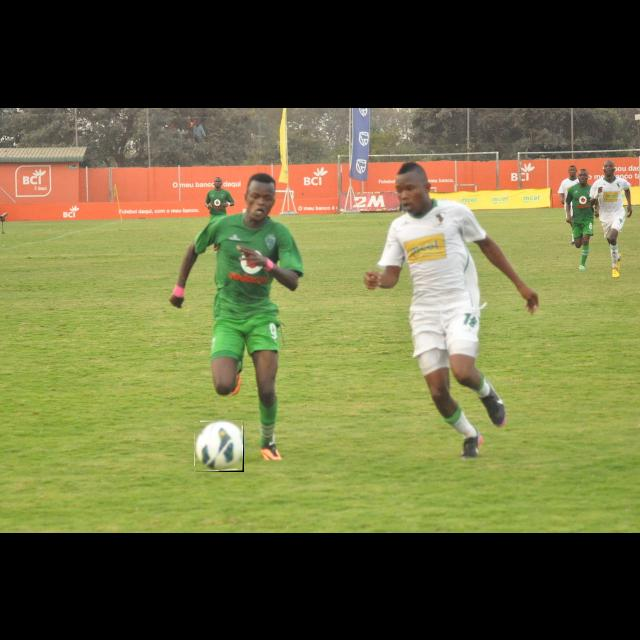Football: (194, 420, 244, 472)
